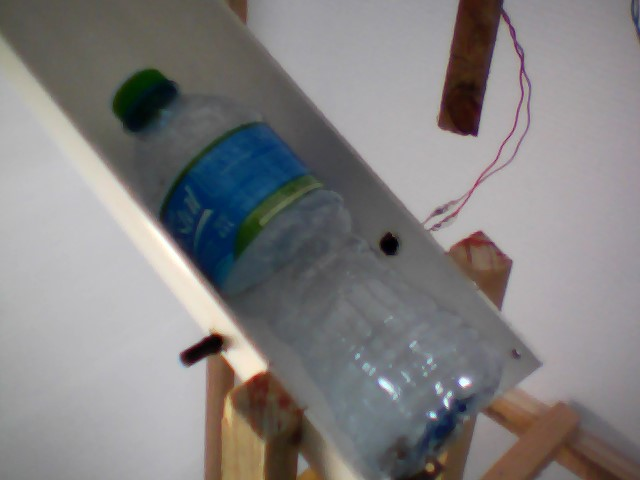plastico: (110, 62, 505, 480)
